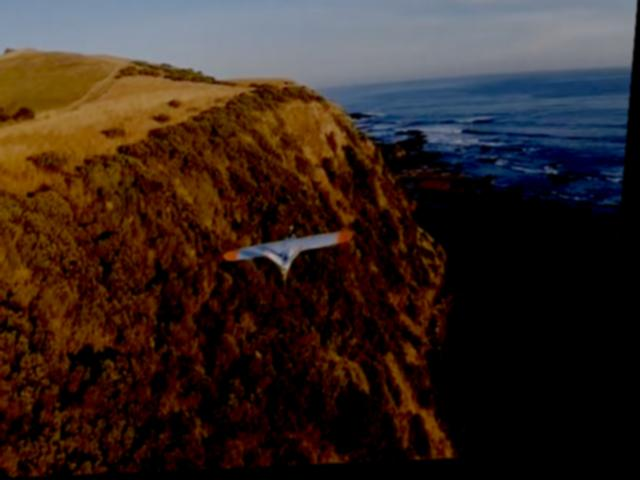uav: (222, 225, 360, 290)
